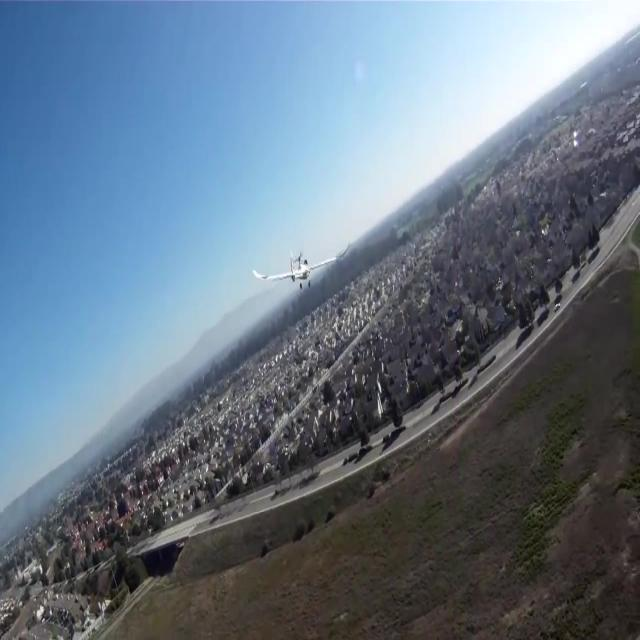iha: (283, 235, 319, 282)
